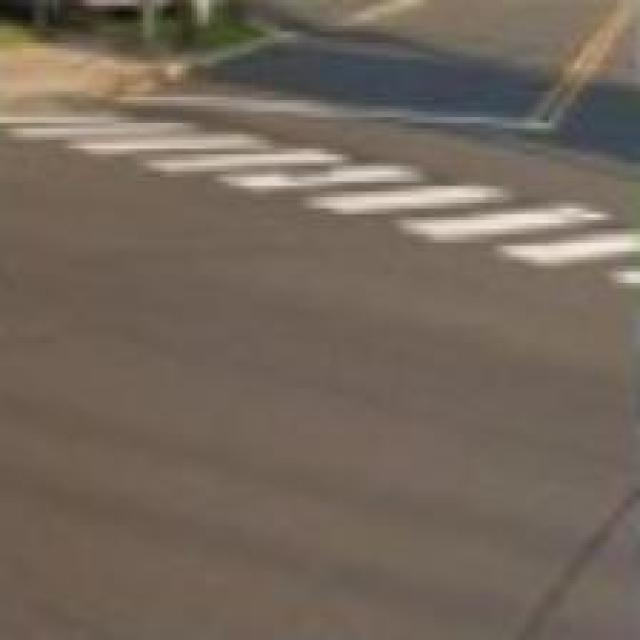walk-crossing: (6, 68, 634, 326)
